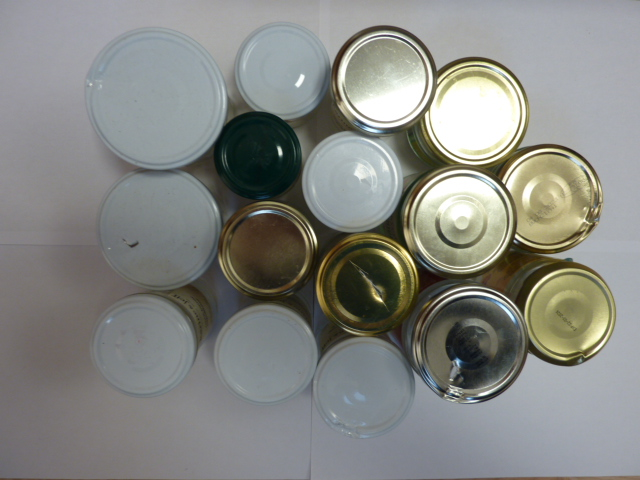damaged: (85, 25, 226, 170), (415, 285, 528, 406), (315, 337, 414, 442), (317, 232, 416, 336), (502, 149, 602, 250)
intact: (401, 169, 516, 276), (421, 57, 531, 166), (87, 296, 198, 399), (332, 24, 436, 133), (213, 301, 319, 404), (234, 22, 333, 119)
